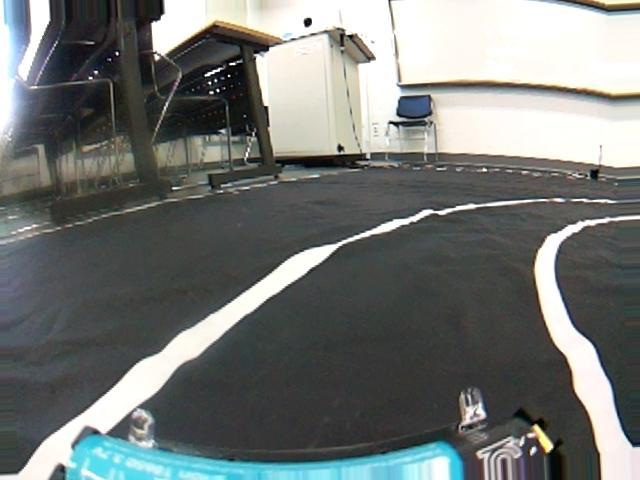right: (1, 194, 640, 477)
